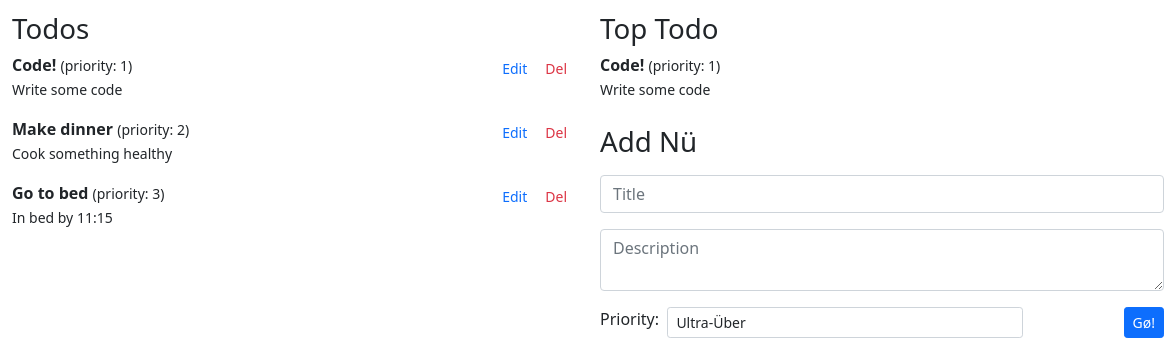
Test: TodoApp › should show newly added todo after submitting new todo form
This screenshot has width=1176, height=355.
In the field with id "newTodo-title": point(882, 194) [600,174,1164,212], type "test"
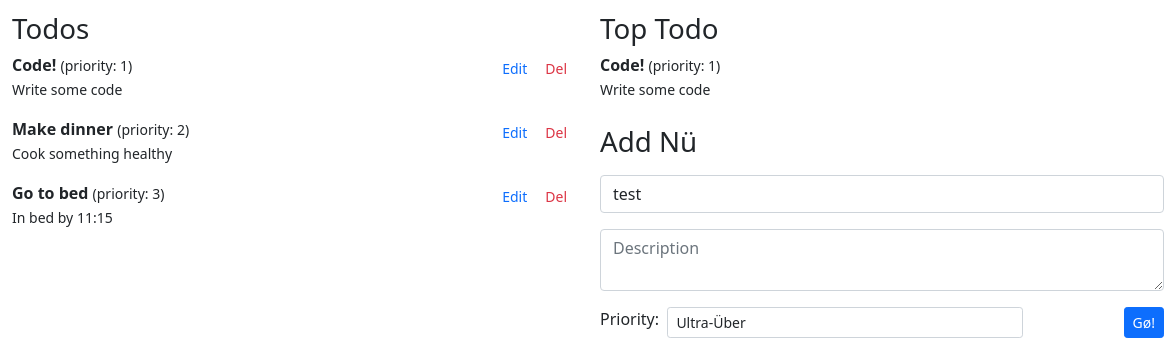
In the text box with id "newTodo-description": point(882, 260) [600,228,1164,290], type "testing"
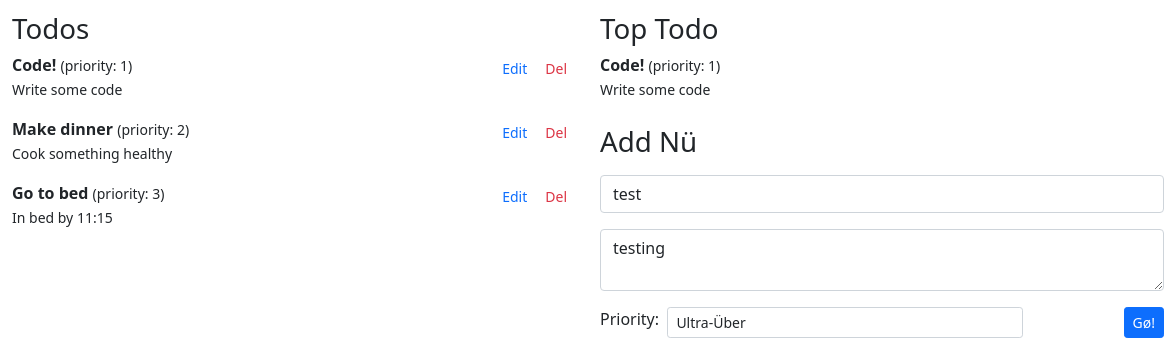
Select "Ultra-Über" in the dropdown with id "newTodo-priority": point(845, 322) [667,306,1023,338]
Click the button "Gø!": point(1144, 322) [1124,306,1164,338]
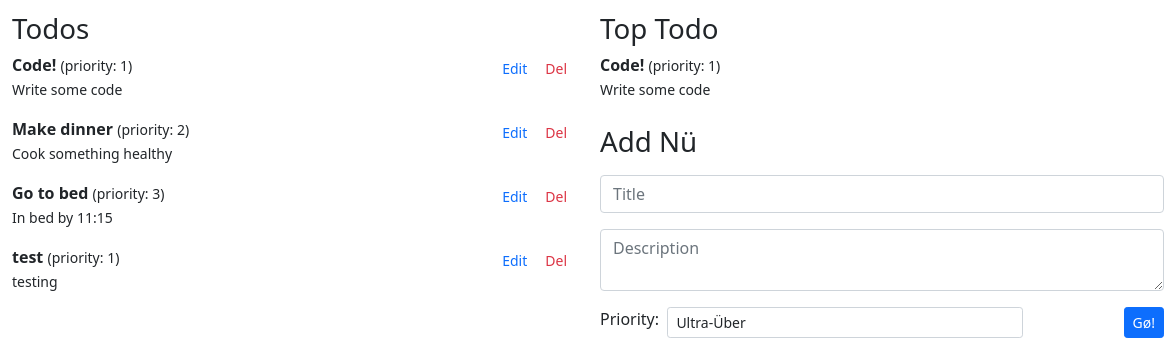
Result: the text "test" is shown at [12,246,43,268]
